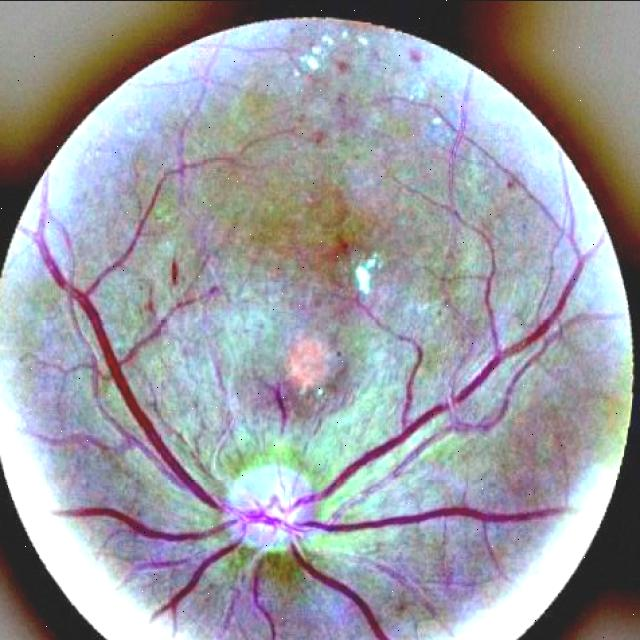Optic Disk: (226, 467, 325, 550)
